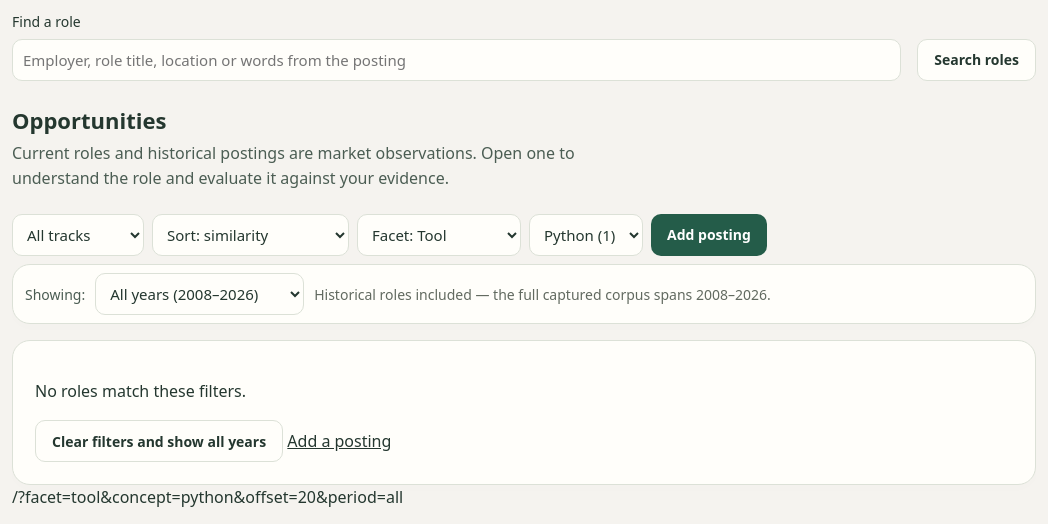
Test: Dashboard recovery and navigation › clears the concept when switching facet category and preserves URL filters
Select "Facet: Domain" in the dropdown named "Filter category" at [439, 235], box [357,214,521,256]
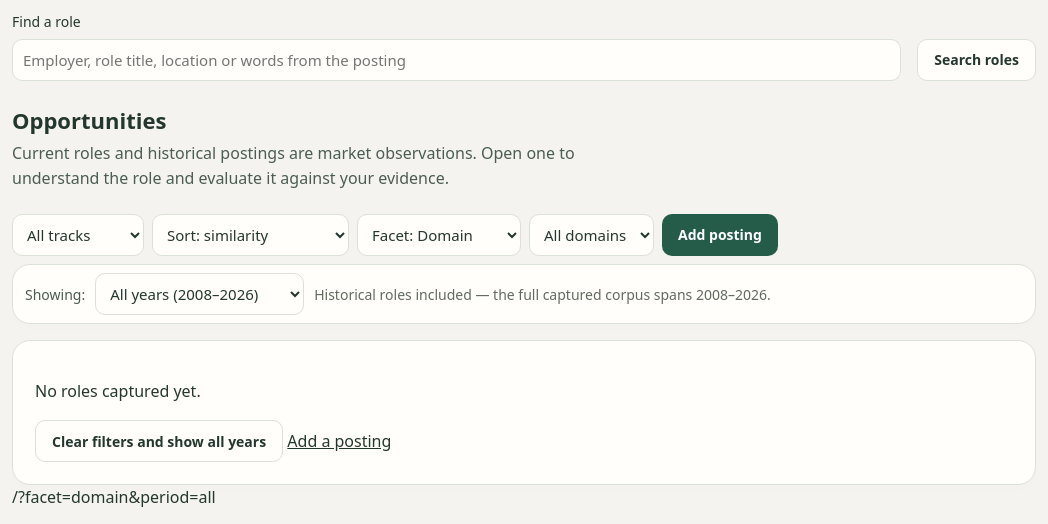
Now the text labelled "Location" no longer shows "concept="
Now the text "No roles captured yet." is shown, box [35,380,201,402]
